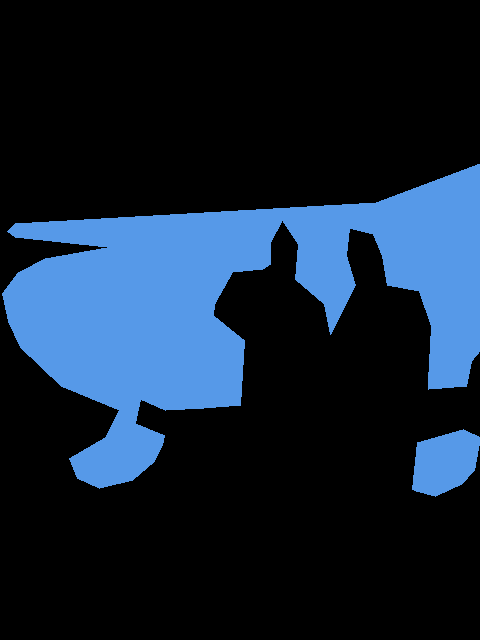Airplane: (2, 163, 480, 496)
